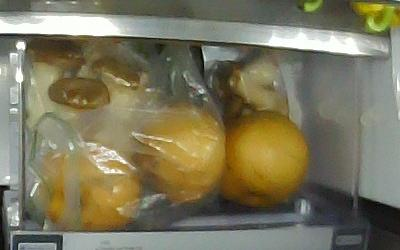pear: (214, 109, 307, 207)
pear_vinyl: (129, 101, 227, 201), (39, 144, 140, 231)
